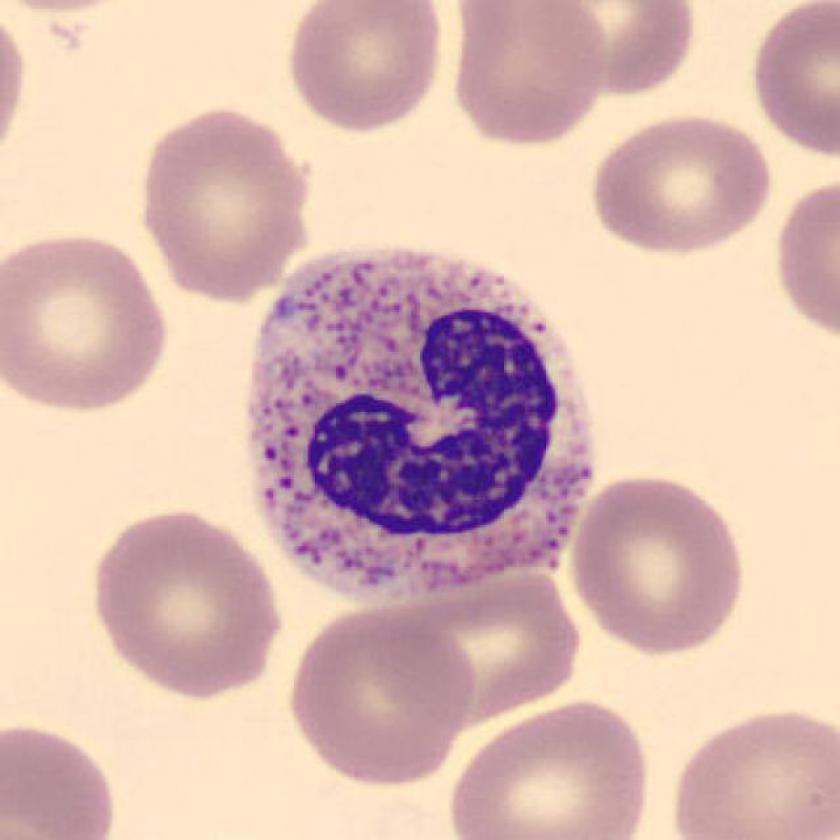neutrophil: (249, 245, 594, 607)
